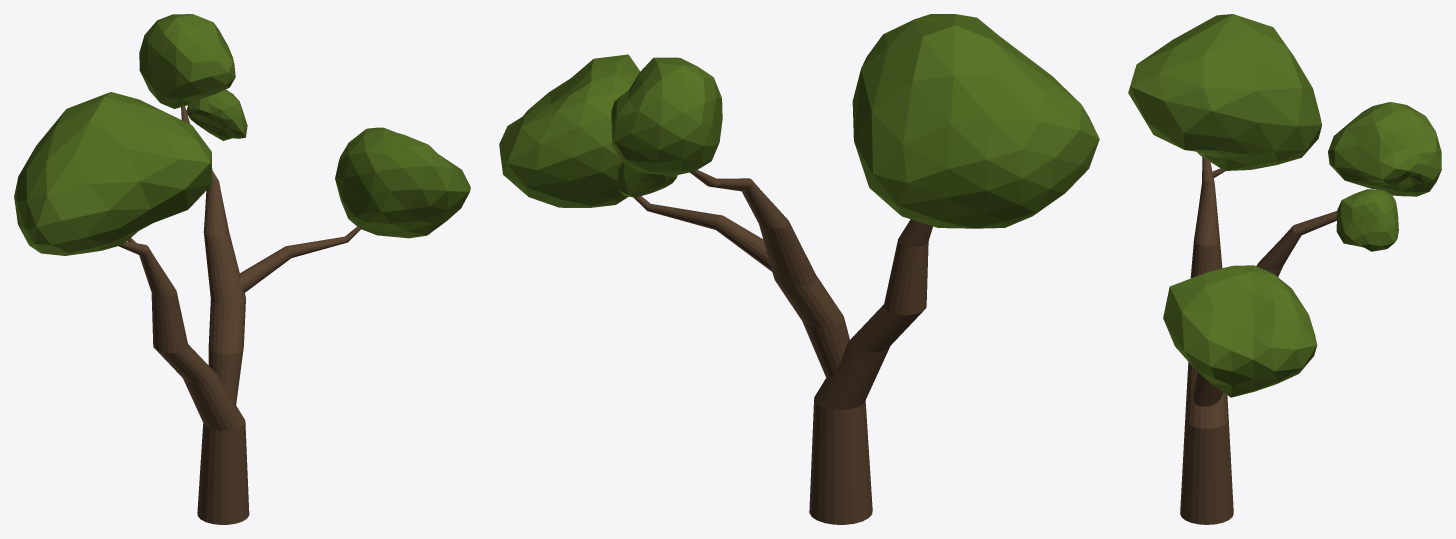
The model's file is tree3.fbx.
The picture shows the model from 3 angles, left to right: view 1: azimuth 30°, elevation 25°; view 2: azimuth 150°, elevation 25°; view 3: azimuth 270°, elevation 25°; orthographic projection. The views are drawn at different scales.
Parts seen in each view (by area): view 1: pCone10; view 2: pCone10; view 3: pCone10.
Part boxes in pixels (box(x1,y1,x2,y2)): pCone10: box(14, 14, 470, 524); pCone10: box(499, 14, 1099, 524); pCone10: box(1128, 14, 1441, 524).
Size of the model in its own units: 16.41 by 15.15 by 9.65.
